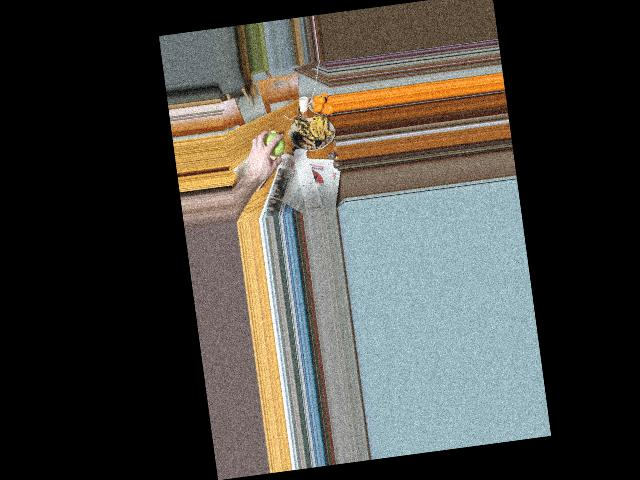apple: (260, 130, 285, 159)
